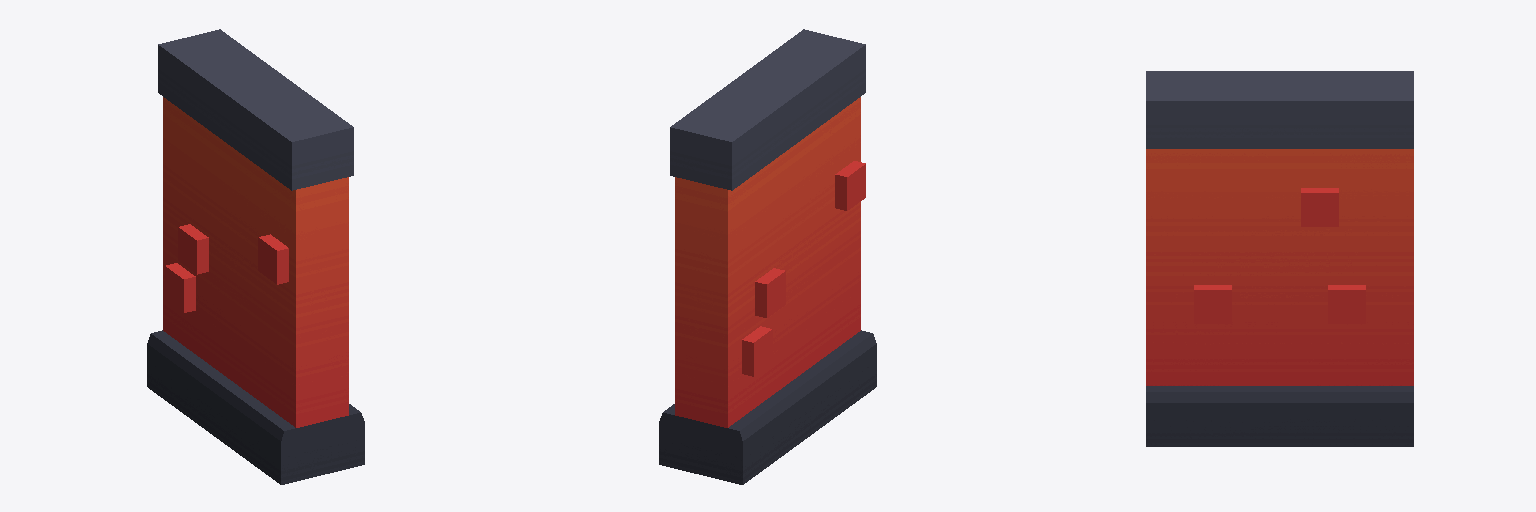
3 renders of one model, left to right at view 1: azimuth 30°, elevation 25°; view 2: azimuth 150°, elevation 25°; view 3: azimuth 270°, elevation 25°, orthographic.
Parts seen in each view (by area): view 1: brick-wall.020; view 2: brick-wall.020; view 3: brick-wall.020.
Part boxes in pixels (left/top/right/bottom): brick-wall.020: left=147, top=29, right=364, bottom=484; brick-wall.020: left=659, top=29, right=876, bottom=484; brick-wall.020: left=1146, top=71, right=1413, bottom=446.
Size of the model in its own units: 0.441 by 1.72 by 1.23.
1 materials, 1 textured.